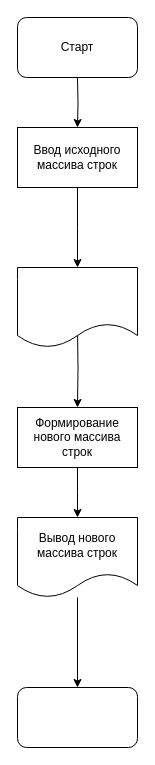
This 155x765 diagram has some shape labels left out. The centre of each missing label's shape, as x and y in pixels:
Вывод исходного массива строк: (x=77, y=307)
Конец: (x=77, y=717)
